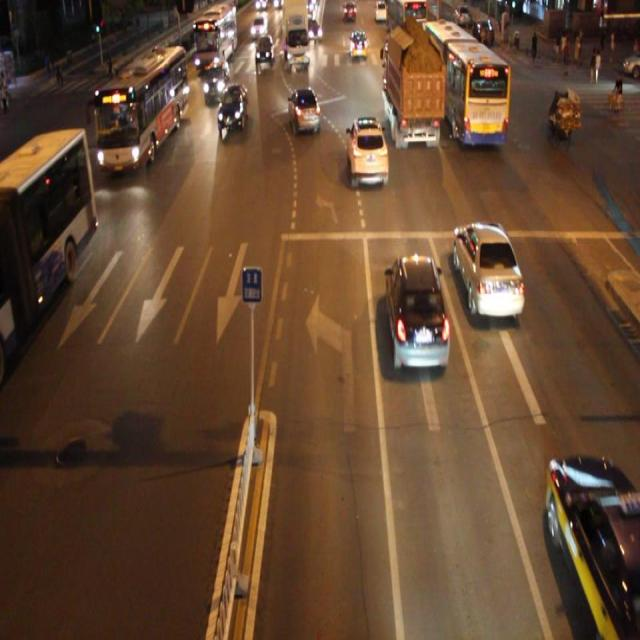bus: (383, 29, 438, 148)
car: (544, 452, 640, 640), (386, 254, 448, 369), (453, 220, 523, 317), (346, 115, 388, 190), (216, 80, 249, 138), (287, 86, 321, 134), (203, 57, 232, 111)
van: (1, 128, 96, 377), (95, 44, 186, 173), (422, 21, 508, 147)
